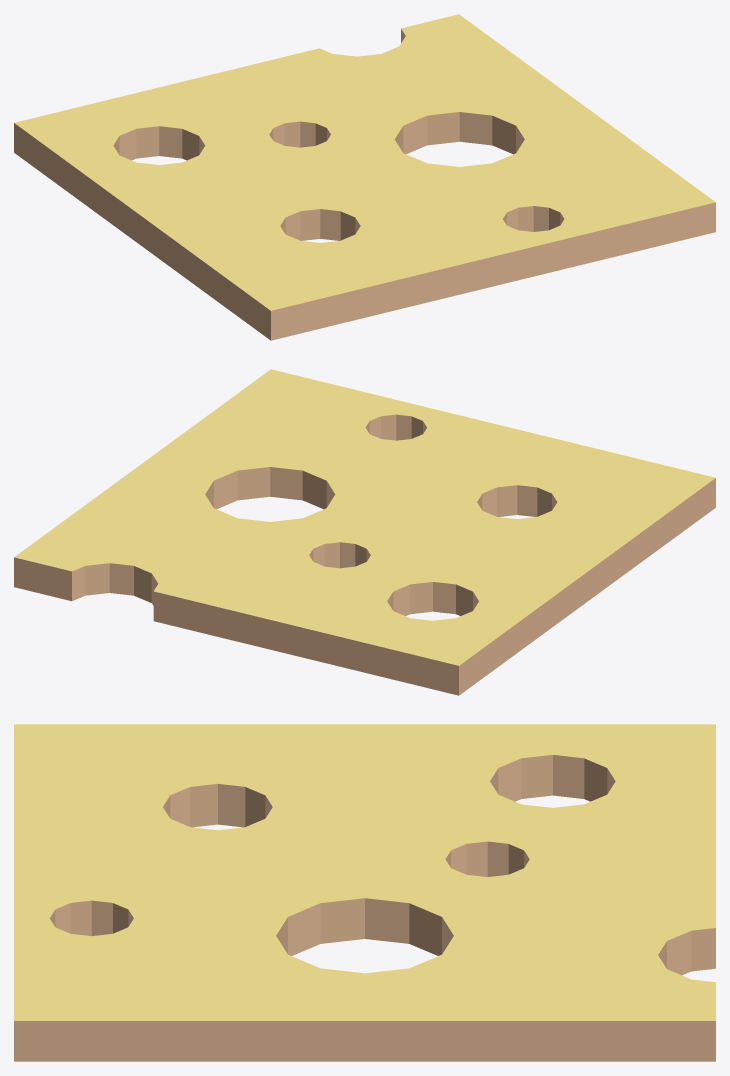
File: Cheese Slice.fbx
3 views of the same model, one above another, from view 1: azimuth 30°, elevation 25°; view 2: azimuth 150°, elevation 25°; view 3: azimuth 270°, elevation 25° (orthographic). The views are drawn at different scales.
Parts seen in each view (by area): view 1: Cheese; view 2: Cheese; view 3: Cheese.
Boxes of the visible parts, x1,y1,x2,y2 form: Cheese: (14,14,715,340); Cheese: (14,369,715,695); Cheese: (14,724,715,1061).
Bounding box in the file's own units: 0.0826 × 0.00529 × 0.0826.
